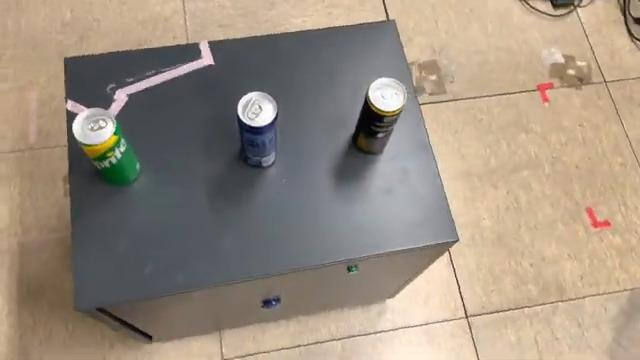OranSoda: (346, 76, 408, 160)
Pepsi: (232, 88, 282, 172)
Sprite: (67, 104, 143, 190)
